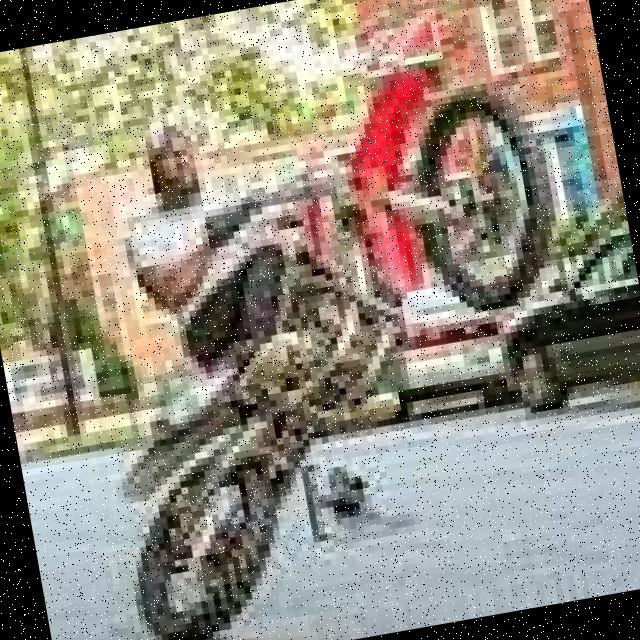Wheeling: (54, 43, 613, 640)
